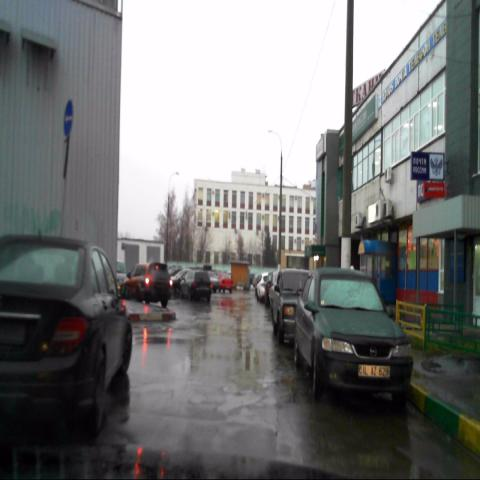4_1_2_2: (63, 100, 72, 136)
